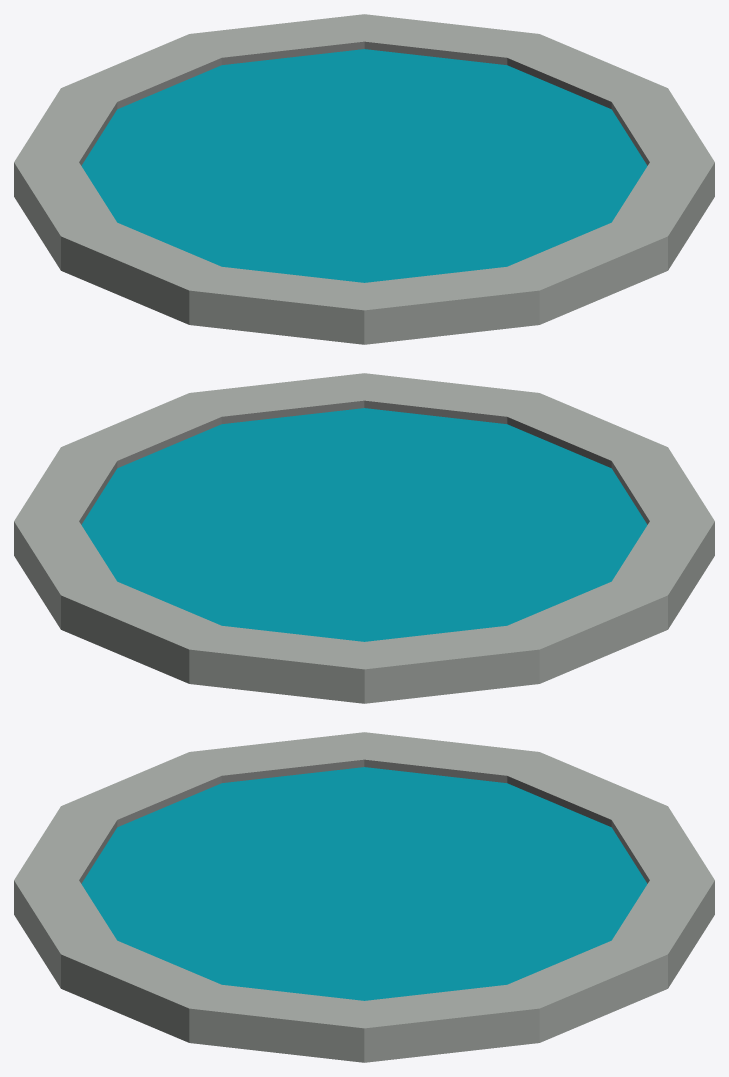
File: fountain.obj
3 views of the same model, one above another, from view 1: azimuth 30°, elevation 25°; view 2: azimuth 150°, elevation 25°; view 3: azimuth 270°, elevation 25° (orthographic).
Visible parts, largest first — view 1: obj.fountain.000_Cylinder; view 2: obj.fountain.000_Cylinder; view 3: obj.fountain.000_Cylinder.
Boxes of the visible parts, x1,y1,x2,y2 form: obj.fountain.000_Cylinder: (14,14,714,344); obj.fountain.000_Cylinder: (14,373,714,703); obj.fountain.000_Cylinder: (14,732,714,1062).
Bounding box in the file's own units: 4 × 0.2167 × 4.
